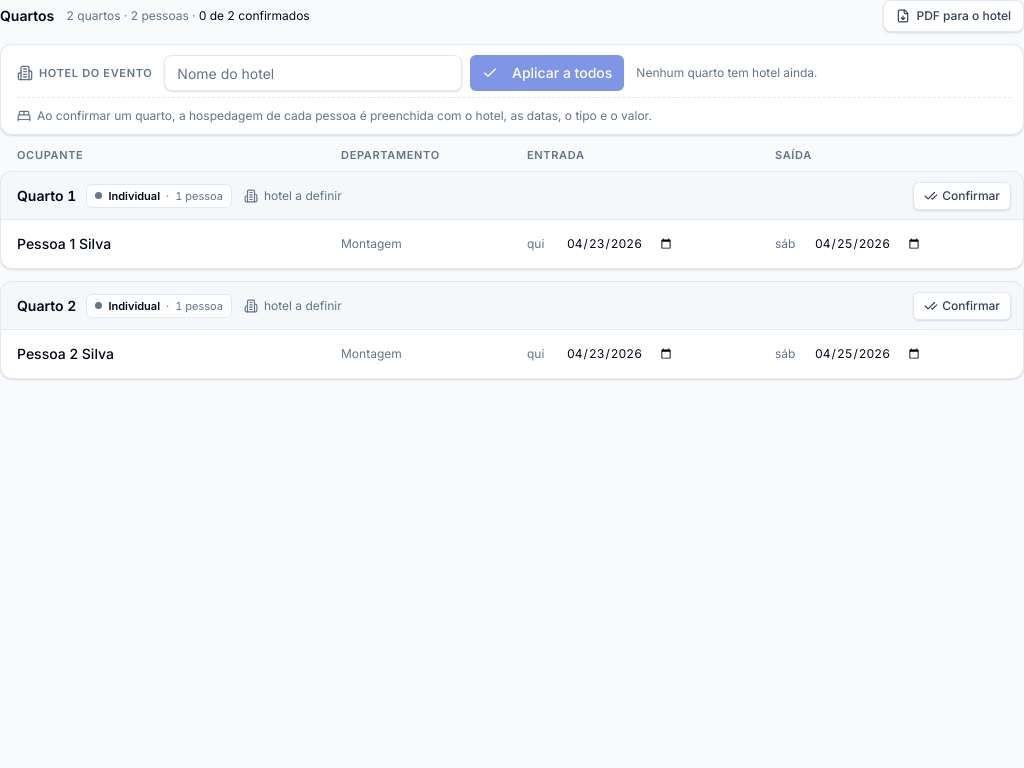
PDF para o hotel sem hotel definido › nenhum quarto com hotel: "Todos os quartos", aviso só informativo, nome opcional e Baixar liberado
Click the button with test id "quartos-pdf-hotel" at (954, 16), box x1=884 y1=0 x2=1023 y2=32
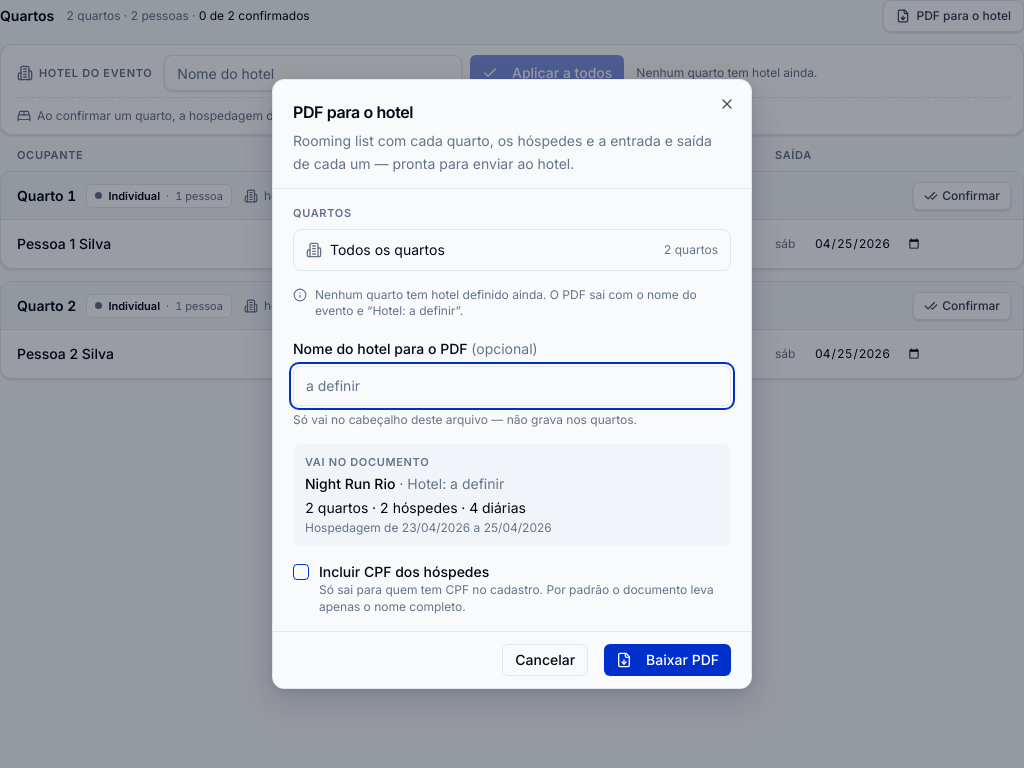
Result: the element with test id "rooming-opcao-unica" reads "Todos os quartos 2 quartos" at x1=293 y1=228 x2=731 y2=270
Result: the element with test id "rooming-quartos-sem-hotel" shows "“Hotel: a definir”" at x1=315 y1=286 x2=697 y2=318
Result: the element with test id "rooming-previa-cabecalho" reads "Night Run Rio · Hotel: a definir" at x1=305 y1=475 x2=504 y2=492
Type "Hotel Provisório" into the field with test id "rooming-nome-no-pdf" at (512, 386), box x1=293 y1=366 x2=731 y2=406
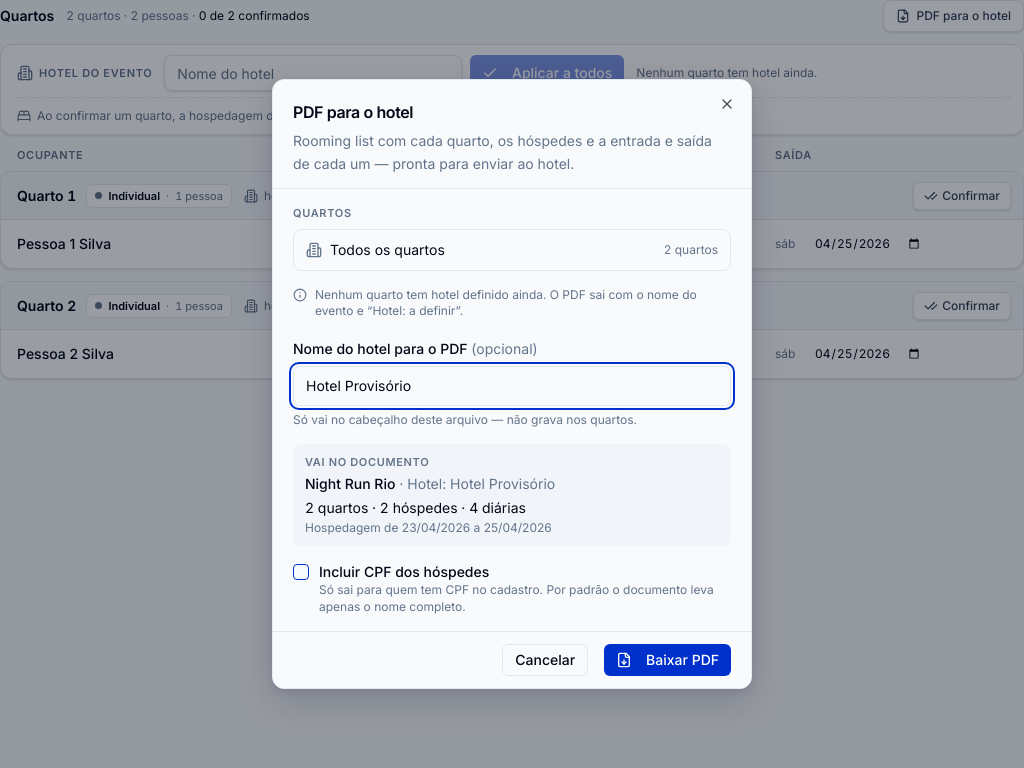
Result: the button with test id "rooming-baixar" is enabled at x1=604 y1=644 x2=731 y2=676
Result: the element with test id "rooming-previa-cabecalho" shows "Hotel: Hotel Provisório" at x1=305 y1=475 x2=555 y2=492
